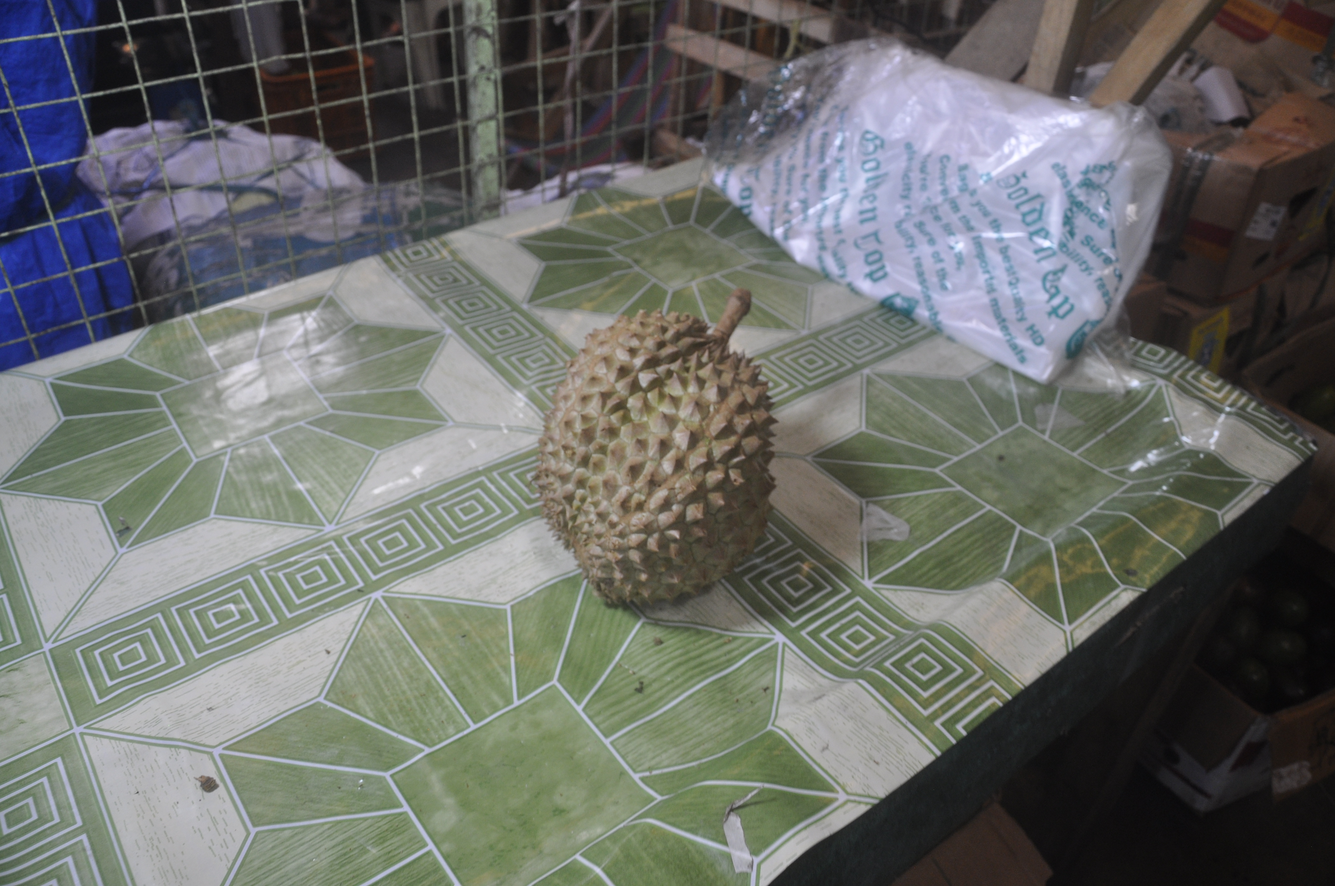mature: (534, 288, 775, 605)
